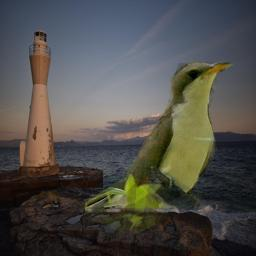Cuckoo: (85, 57, 235, 234)
